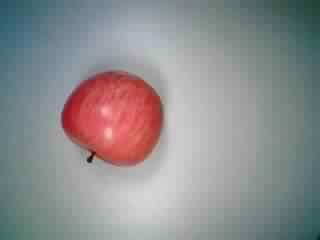apple: (58, 69, 163, 171)
